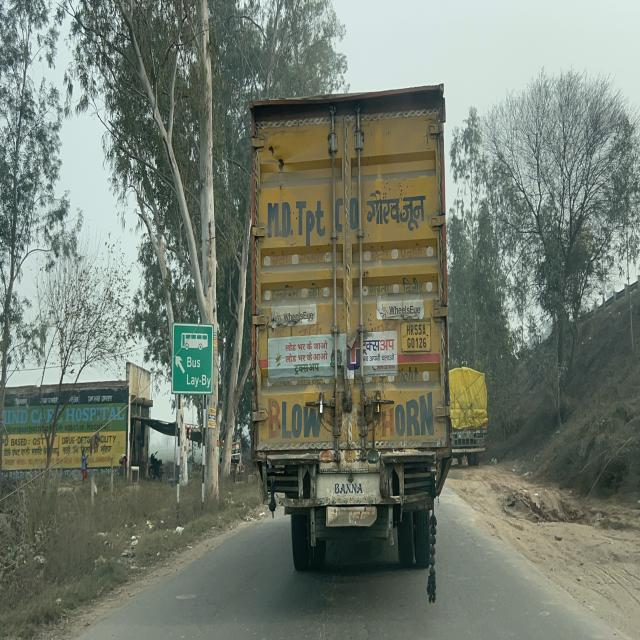GENERAL: (172, 321, 214, 395)
